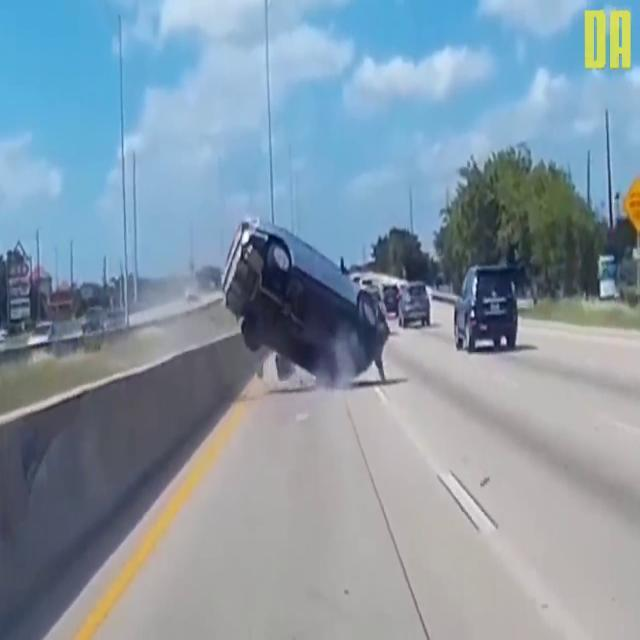single accident: (187, 196, 427, 418)
